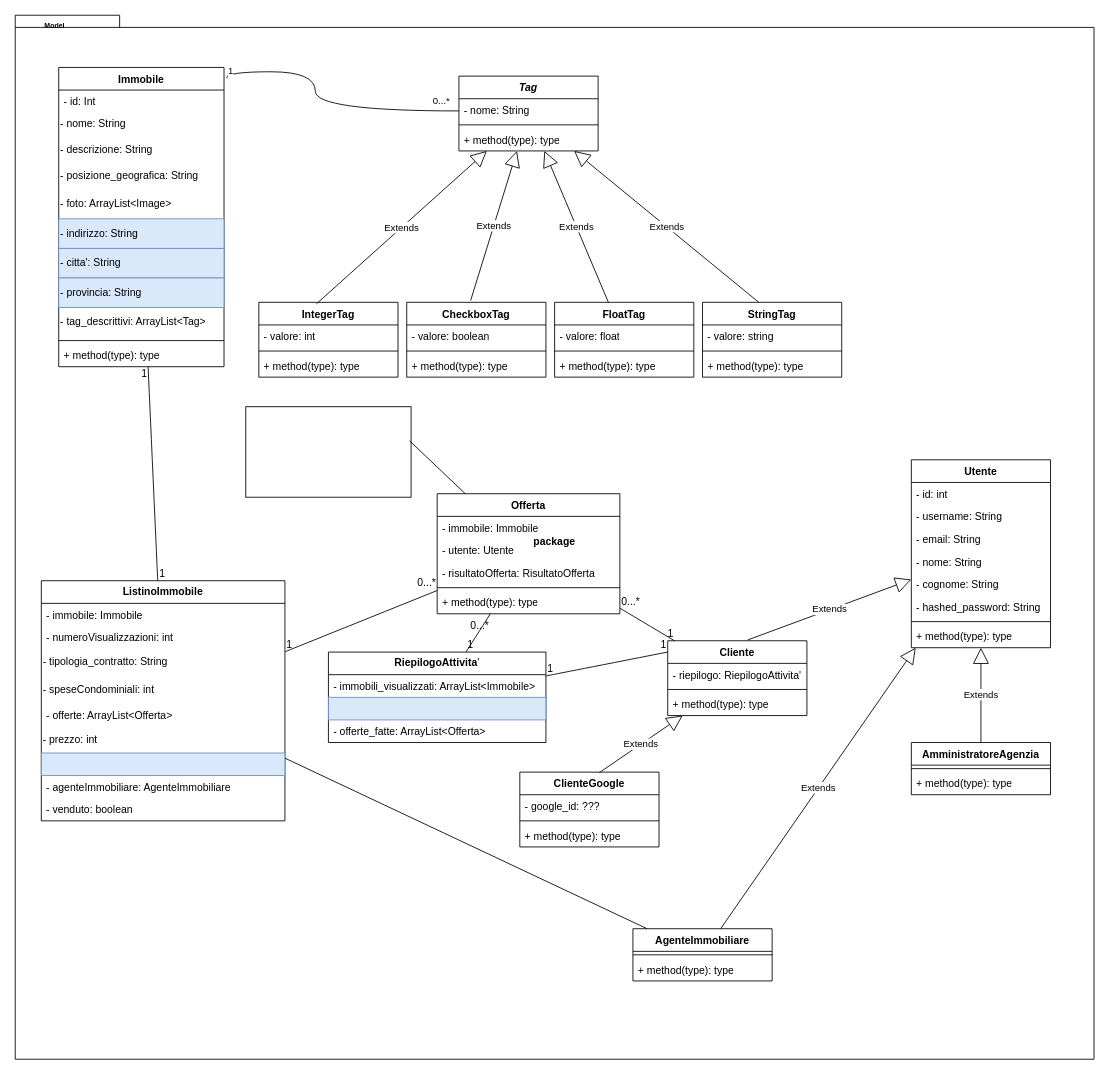
Some shapes in this 1109 by 1074 pixel diagram are drawn without their labels. Here are the shapes that lost their labels. From the top down, the centre of each, then its label:
At (328,451): "<<Enum>> RisultatoOfferta Accetata Rifiutata InRevisione ContropropostaRicevuta".
At (437,708): "- visite_prenotate:".
At (162,764): "- prenotazioni: ArrayList<>".
